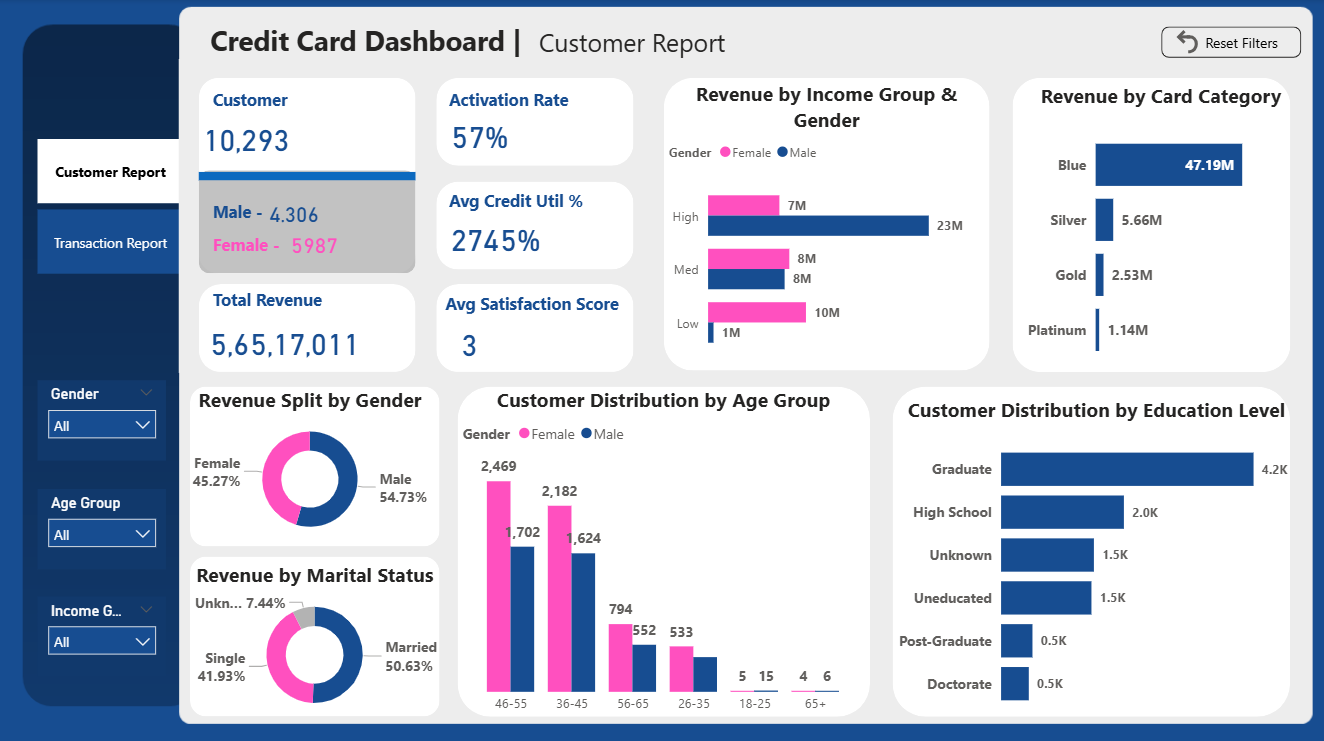

The dashboard page shown, as its layout file describes it:
{"tool":"powerbi","page":{"name":"Customer Report","canvas":[1280,720],"ordinal":0},"visuals":[{"type":"shape","box":[1120.8,26.5,135.1,30.2],"z":0},{"type":"shape","box":[861.3,373.7,383.8,318.9],"z":1000},{"type":"shape","box":[976.7,76.5,268.4,284.2],"z":2000},{"type":"shape","box":[441.5,373.7,398.2,318.9],"z":3000},{"type":"shape","box":[183.2,538.2,240.9,154.4],"z":4000},{"type":"shape","box":[183.2,373.7,240.9,154.4],"z":5000},{"type":"shape","box":[640.6,76.5,314.5,282.8],"z":6000},{"type":"shape","box":[192,76,209.2,189],"z":7000},{"type":"shape","box":[192,275.1,209.2,85.1],"z":8000},{"type":"textbox","box":[199.9,80.4,132.7,31.4],"z":9000},{"type":"card","fields":{"Values":["Measures Table.Customer Count"]},"box":[177.5,108.2,121.2,53.4],"z":10000},{"type":"shape","box":[192,165.5,209.2,99.6],"z":11000},{"type":"textbox","box":[200.7,188.9,67.8,31.7],"z":12000},{"type":"textbox","box":[200.7,220.6,88,36.1],"z":13000},{"type":"card","fields":{"Values":["Measures Table.Male count"]},"box":[237,193,95.2,26],"z":14000},{"type":"card","fields":{"Values":["Measures Table.Female count"]},"box":[255.5,223,95.2,26],"z":15000},{"type":"shape","box":[192,125.1,209.2,90.9],"z":16000},{"type":"shape","box":[421.3,76.5,190.4,85.1],"z":17000},{"type":"shape","box":[421.3,176,190.4,85.1],"z":18000},{"type":"shape","box":[421.3,275.6,190.4,85.1],"z":19000},{"type":"textbox","box":[200.7,273.7,132.7,31.7],"z":20000},{"type":"card","fields":{"Values":["Measures Table.Total Revenue"]},"box":[187.7,305.4,173.1,53.4],"z":21000},{"type":"textbox","box":[428.5,80.8,147.2,31.7],"z":22000},{"type":"card","fields":{"Values":["Measures Table.Activation Rate"]},"box":[376.6,105.3,173.1,53.4],"z":23000},{"type":"textbox","box":[428.5,178.9,173.1,31.7],"z":24000},{"type":"card","fields":{"Values":["Measures Table.Avg Utilization %"]},"box":[392.4,204.9,173.1,53.4],"z":25000},{"type":"textbox","box":[424.2,277,187.6,31.7],"z":26000},{"type":"card","fields":{"Values":["Measures Table.Avg Satisfaction Score"]},"box":[366.5,305.9,173.1,53.4],"z":27000},{"type":"donutChart","title":"Revenue Split by Gender","fields":{"Category":["customer_data.Gender"],"Y":["Measures Table.Total Revenue"]},"box":[177.5,373.7,243.8,154.4],"z":28000},{"type":"clusteredBarChart","title":"Revenue by Income Group & Gender","fields":{"Category":["customer_data.Income Group"],"Y":["Measures Table.Total Revenue"],"Series":["customer_data.Gender"]},"box":[640.6,77.9,314.5,281.3],"z":29000},{"type":"clusteredColumnChart","title":"Customer Distribution by Age Group","fields":{"Category":["customer_data.Age Group"],"Series":["customer_data.Gender"],"Y":["Measures Table.Customer Count"]},"box":[441.5,373.7,398.2,324.6],"z":30000},{"type":"donutChart","title":"Revenue by Marital Status","fields":{"Y":["Measures Table.Total Revenue"],"Category":["customer_data.Marital_Status"]},"box":[183.2,542.5,240.9,155.8],"z":31000},{"type":"barChart","title":"Revenue by Card Category","fields":{"Category":["cc_detail.Card_Category"],"Y":["Measures Table.Total Revenue"]},"box":[985.4,80.8,269.8,287.1],"z":32000},{"type":"barChart","title":"Customer Distribution by Education Level","fields":{"Category":["customer_data.Education_Level"],"Y":["Measures Table.Customer Count"]},"box":[861.3,383.8,393.9,316],"z":33000},{"type":"textbox","box":[197.7,17.3,320.3,57.7],"z":34000},{"type":"textbox","box":[515.1,20.2,235.2,44.7],"z":35000},{"type":"pageNavigator","box":[36.2,135.1,141.2,130.3],"z":36000},{"type":"shape","box":[172.5,57.9,9.7,302.8],"z":37000},{"type":"actionButton","box":[1130.4,25.3,39.8,31.4],"z":38000},{"type":"textbox","box":[1158.5,27.4,92.3,31.7],"z":39000},{"type":"slicer","fields":{"Values":["customer_data.Gender"]},"box":[36.1,367.9,124.1,77.9],"z":39001},{"type":"slicer","fields":{"Values":["customer_data.Age Group"]},"box":[36.1,472.5,124.1,77.9],"z":39002},{"type":"slicer","fields":{"Values":["customer_data.Income Group"]},"box":[36.1,577.1,124.1,77.9],"z":39003}]}

Visuals, with their boxes on the page's 1280x720 design canvas (x1, y1, x2, y2). These are canvas units, not pixel positions in the 1324x741 screenshot, which may show the page scaled, cropped or inside an application window:
shape: bbox=(1121, 26, 1256, 57)
shape: bbox=(861, 374, 1245, 693)
shape: bbox=(977, 76, 1245, 361)
shape: bbox=(442, 374, 840, 693)
shape: bbox=(183, 538, 424, 693)
shape: bbox=(183, 374, 424, 528)
shape: bbox=(641, 76, 955, 359)
shape: bbox=(192, 76, 401, 265)
shape: bbox=(192, 275, 401, 360)
textbox: bbox=(200, 80, 333, 112)
card - Measures Table.Customer Count: bbox=(178, 108, 299, 162)
shape: bbox=(192, 166, 401, 265)
textbox: bbox=(201, 189, 268, 221)
textbox: bbox=(201, 221, 289, 257)
card - Measures Table.Male count: bbox=(237, 193, 332, 219)
card - Measures Table.Female count: bbox=(256, 223, 351, 249)
shape: bbox=(192, 125, 401, 216)
shape: bbox=(421, 76, 612, 162)
shape: bbox=(421, 176, 612, 261)
shape: bbox=(421, 276, 612, 361)
textbox: bbox=(201, 274, 333, 305)
card - Measures Table.Total Revenue: bbox=(188, 305, 361, 359)
textbox: bbox=(428, 81, 576, 112)
card - Measures Table.Activation Rate: bbox=(377, 105, 550, 159)
textbox: bbox=(428, 179, 602, 211)
card - Measures Table.Avg Utilization %: bbox=(392, 205, 566, 258)
textbox: bbox=(424, 277, 612, 309)
card - Measures Table.Avg Satisfaction Score: bbox=(366, 306, 540, 359)
"Revenue Split by Gender" donutChart: bbox=(178, 374, 421, 528)
"Revenue by Income Group & Gender" clusteredBarChart: bbox=(641, 78, 955, 359)
"Customer Distribution by Age Group" clusteredColumnChart: bbox=(442, 374, 840, 698)
"Revenue by Marital Status" donutChart: bbox=(183, 542, 424, 698)
"Revenue by Card Category" barChart: bbox=(985, 81, 1255, 368)
"Customer Distribution by Education Level" barChart: bbox=(861, 384, 1255, 700)
textbox: bbox=(198, 17, 518, 75)
textbox: bbox=(515, 20, 750, 65)
pageNavigator: bbox=(36, 135, 177, 265)
shape: bbox=(172, 58, 182, 361)
actionButton: bbox=(1130, 25, 1170, 57)
textbox: bbox=(1158, 27, 1251, 59)
slicer - customer_data.Gender: bbox=(36, 368, 160, 446)
slicer - customer_data.Age Group: bbox=(36, 472, 160, 550)
slicer - customer_data.Income Group: bbox=(36, 577, 160, 655)
